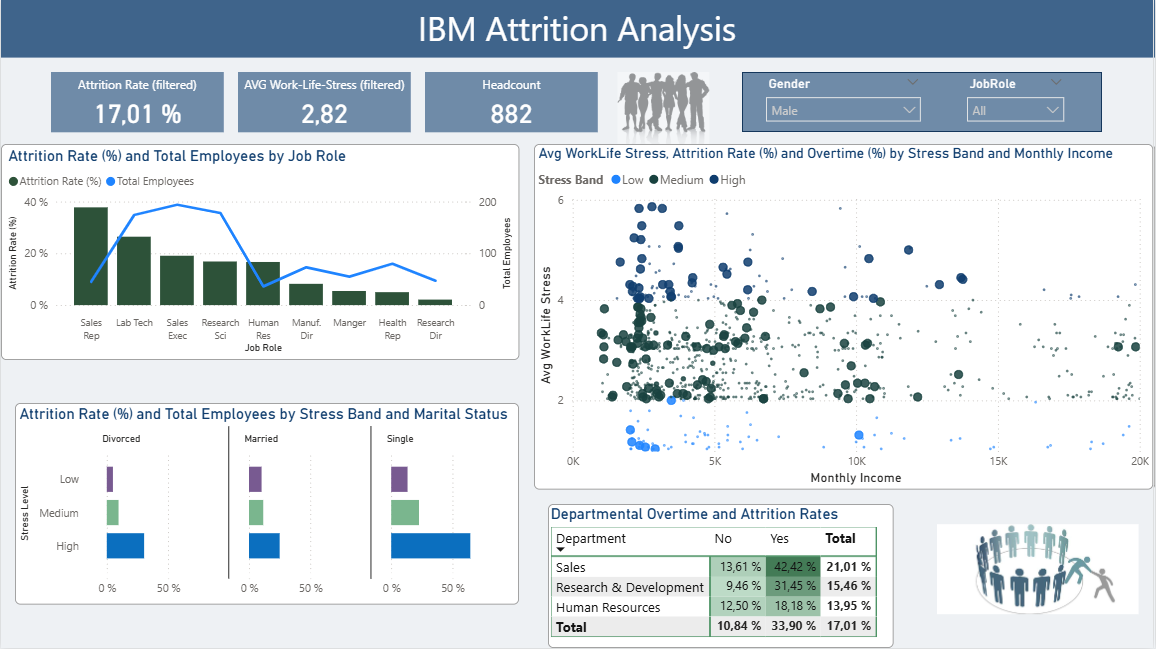

The page's visual inventory and layout, read from the dashboard file:
{"tool":"powerbi","page":{"name":"Attrition Takeaways","canvas":[1280,720],"ordinal":0},"visuals":[{"type":"textbox","box":[0,0,1280,64],"z":0},{"type":"card","fields":{"Values":["Employee_Facts.Total Employees"]},"box":[472,80,192,66.7],"z":1000,"group":"g2"},{"type":"lineStackedColumnComboChart","title":"Attrition Rate (%) and Total Employees by Job Role","fields":{"Y":["measures .Attrition Rate (%)"],"Y2":["measures .Total Employees"],"Category":["Employee_Facts.JobRole_Short"]},"box":[0,160,576,240],"z":2000},{"type":"card","fields":{"Values":["Employee_Facts.Avg WorkLife Stress"]},"box":[264,80,192,66.7],"z":3000,"group":"g2"},{"type":"pivotTable","title":"Departmental Overtime and Attrition Rates","fields":{"Rows":["Employee_Facts.Department"],"Columns":["Employee_Facts.OverTime"],"Values":["measures .Attrition Rate (%)"]},"box":[608,560,384,160],"z":4000},{"type":"card","fields":{"Values":["Employee_Facts.Attrition Rate (%)"]},"box":[56,80,192,66.7],"z":5000,"group":"g2"},{"type":"clusteredBarChart","title":"Attrition Rate (%) and Total Employees by Stress Band and Marital Status","fields":{"Category":["Employee_Facts.Stress Band"],"Y":["measures .Attrition Rate (%)"],"Rows":["Employee_Facts.MaritalStatus"]},"box":[16,448,560,224],"z":6000},{"type":"scatterChart","title":"Avg WorkLife Stress, Attrition Rate (%) and Overtime (%) by Stress Band and Monthly Income","fields":{"Series":["Employee_Facts.Stress Band"],"X":["Employee_Facts.MonthlyIncome"],"Y":["measures .Avg WorkLife Stress"],"Size":["measures .Attrition Rate (%)"]},"box":[592,160,688,384],"z":7000},{"type":"image","box":[1040,544,224,176],"z":8000},{"type":"shape","box":[824,80,400,66.7],"z":9000,"group":"g2"},{"type":"slicer","fields":{"Values":["Employee_Facts.JobRole"]},"box":[1064,80,128,66.7],"z":10000,"group":"g2"},{"type":"slicer","fields":{"Values":["Employee_Facts.Gender"]},"box":[840,80,192,66.7],"z":11000,"group":"g2"},{"type":"image","box":[680,80,112,80],"z":12000,"group":"g2"},{"type":"group","id":"g1","title":"Group 1","box":[56,80,1168,80],"z":12001},{"type":"group","id":"g2","title":"Group 2","box":[56,80,1168,80],"z":12002,"group":"g1"}]}

Visuals, with their boxes in screenshot pixels (x1, y1, x2, y2), scaled from the page's 1280x720 canvas onto the 1156x649 screenshot:
textbox: bbox=(0, 0, 1155, 58)
card - Employee_Facts.Total Employees: bbox=(426, 72, 600, 132)
"Attrition Rate (%) and Total Employees by Job Role" lineStackedColumnComboChart: bbox=(0, 144, 520, 361)
card - Employee_Facts.Avg WorkLife Stress: bbox=(238, 72, 412, 132)
"Departmental Overtime and Attrition Rates" pivotTable: bbox=(549, 505, 896, 648)
card - Employee_Facts.Attrition Rate (%): bbox=(51, 72, 224, 132)
"Attrition Rate (%) and Total Employees by Stress Band and Marital Status" clusteredBarChart: bbox=(14, 404, 520, 606)
"Avg WorkLife Stress, Attrition Rate (%) and Overtime (%) by Stress Band and Monthly Income" scatterChart: bbox=(535, 144, 1155, 490)
image: bbox=(939, 490, 1142, 648)
shape: bbox=(744, 72, 1105, 132)
slicer - Employee_Facts.JobRole: bbox=(961, 72, 1077, 132)
slicer - Employee_Facts.Gender: bbox=(759, 72, 932, 132)
image: bbox=(614, 72, 715, 144)
"Group 1" group: bbox=(51, 72, 1105, 144)
"Group 2" group: bbox=(51, 72, 1105, 144)
